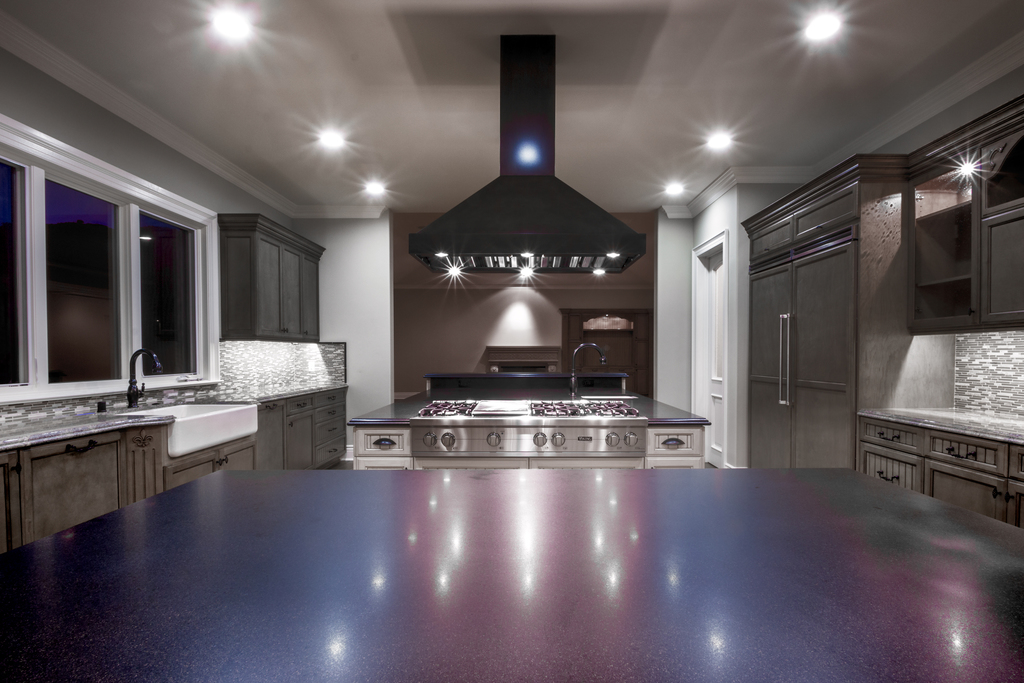Cabinetry: (904, 122, 1023, 329), (748, 243, 853, 470), (0, 421, 167, 555), (860, 415, 1023, 533), (216, 208, 332, 342), (253, 387, 346, 483), (558, 308, 648, 404), (166, 433, 257, 493), (353, 422, 415, 474), (648, 423, 705, 473)
